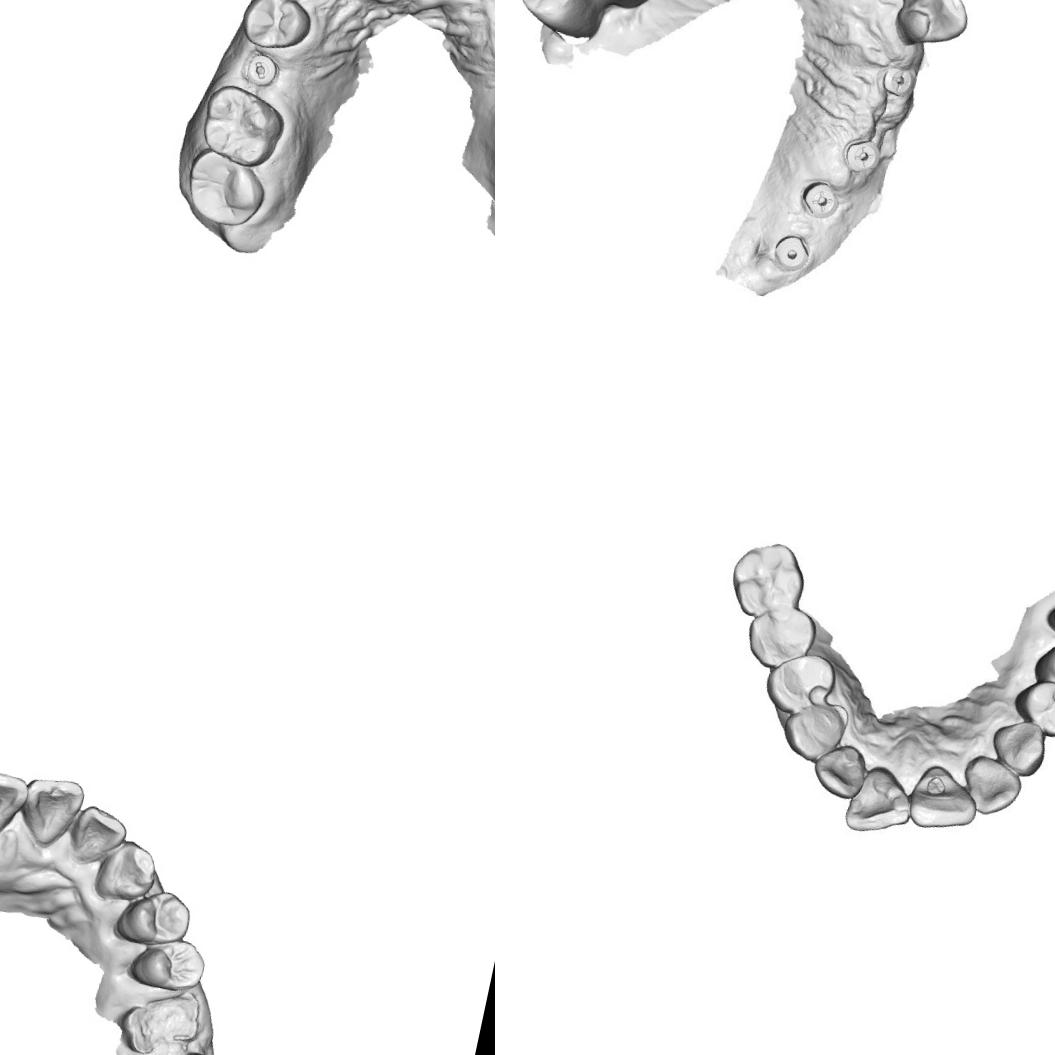canine: (87, 832, 163, 910), (775, 696, 852, 769), (985, 716, 1052, 782)
implant: (767, 226, 817, 280)
implant_minus: (241, 48, 282, 90)
implant_plus: (836, 128, 889, 182), (798, 172, 842, 222), (876, 57, 920, 104)
incisor: (839, 760, 918, 842), (10, 769, 84, 854), (904, 760, 982, 838), (885, 0, 979, 63), (957, 750, 1026, 822), (64, 800, 130, 871), (806, 736, 870, 806), (0, 763, 29, 848)
molar: (195, 78, 291, 171), (722, 532, 814, 628), (177, 145, 274, 233), (506, 0, 618, 52)
premolar: (112, 880, 200, 956), (124, 927, 211, 1002), (741, 596, 821, 675), (759, 645, 838, 723), (236, 0, 317, 57), (1006, 673, 1055, 742), (1027, 635, 1055, 704)
